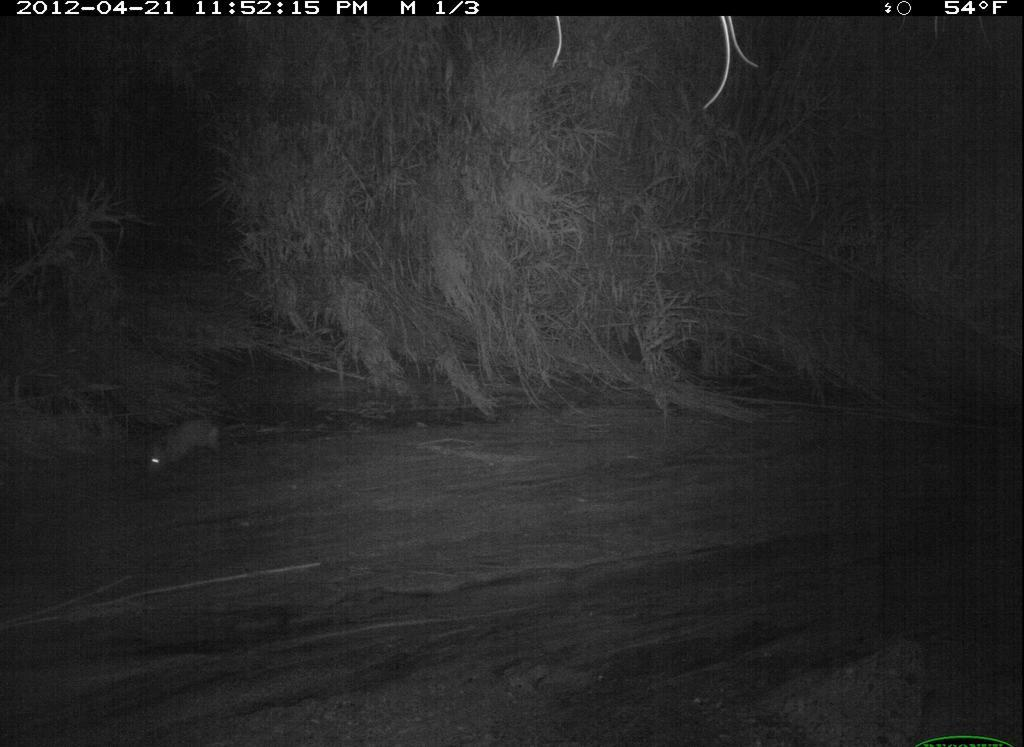opossum: (130, 406, 263, 493)
